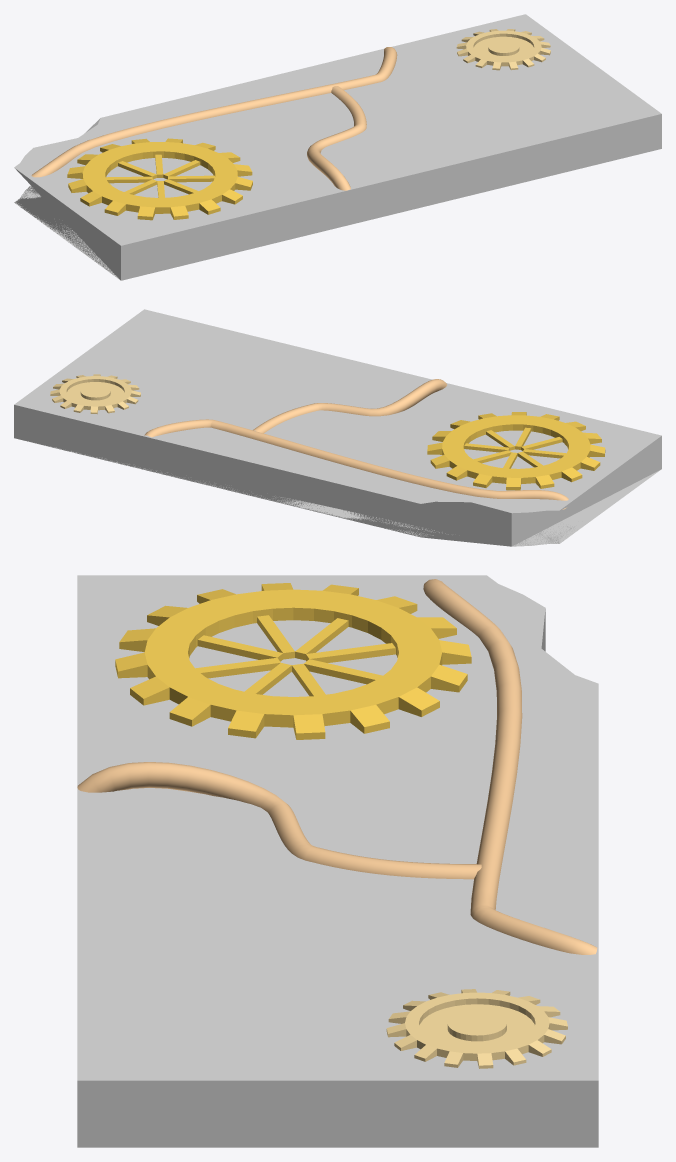
File: Wall.fbx
3 renders of one model, top to bottom at view 1: azimuth 30°, elevation 25°; view 2: azimuth 150°, elevation 25°; view 3: azimuth 270°, elevation 25°, orthographic. The views are drawn at different scales.
Visible parts, largest first — view 1: Cube, Cylinder, BézierCurve, gearA, BézierCurve.001; view 2: Cube, Cylinder, BézierCurve, gearA, BézierCurve.001; view 3: Cube, Cylinder, BézierCurve, gearA, BézierCurve.001.
Part boxes in pixels (left/top/right/bottom): Cube: left=14, top=14, right=661, bottom=280; Cylinder: left=67, top=138, right=252, bottom=220; BézierCurve: left=31, top=47, right=397, bottom=177; gearA: left=456, top=29, right=550, bottom=70; BézierCurve.001: left=307, top=86, right=366, bottom=190; Cube: left=14, top=309, right=661, bottom=546; Cylinder: left=427, top=412, right=605, bottom=490; BézierCurve: left=144, top=419, right=568, bottom=509; gearA: left=50, top=374, right=140, bottom=414; BézierCurve.001: left=253, top=379, right=446, bottom=433; Cube: left=77, top=575, right=598, bottom=1147; Cylinder: left=115, top=583, right=471, bottom=739; BézierCurve: left=423, top=579, right=597, bottom=954; gearA: left=386, top=989, right=567, bottom=1068; BézierCurve.001: left=77, top=762, right=481, bottom=879.
Bounding box in the file's own units: 458 × 38.63 × 200.
